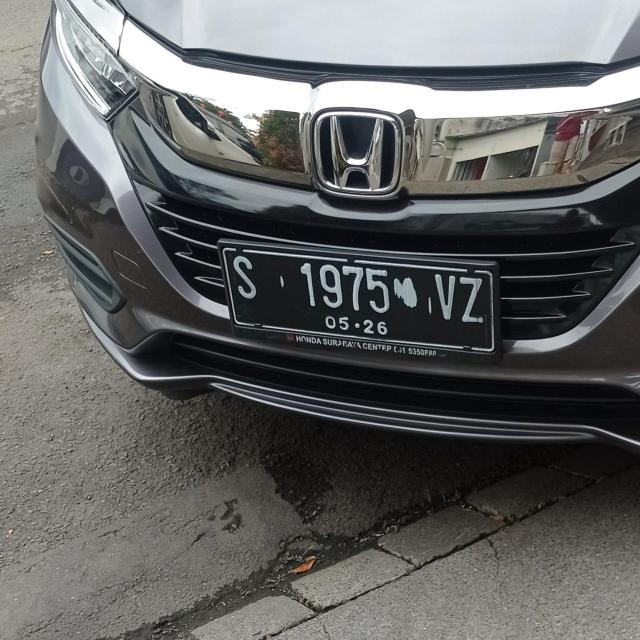license-plate: (221, 242, 499, 357)
